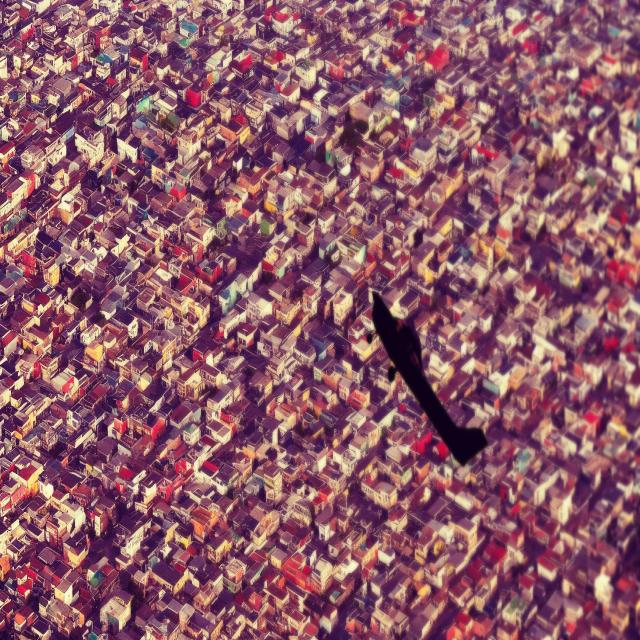airplane: (367, 286, 488, 467)
